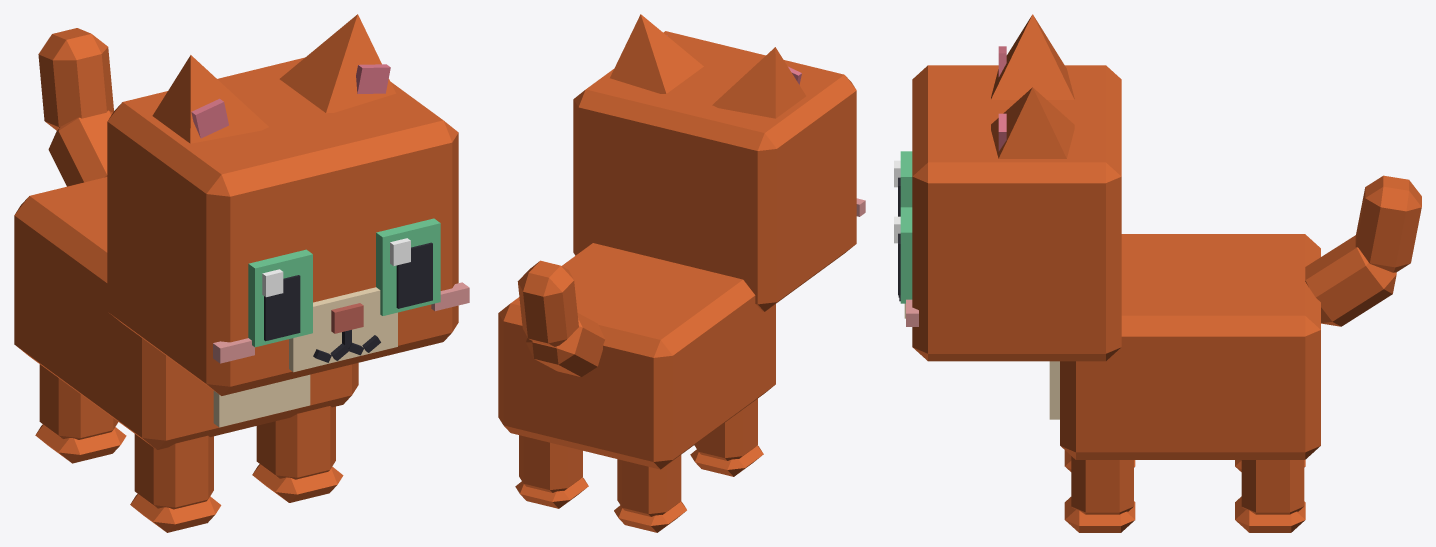
File: CatCafe_Cat_Ginger.glb
3 views of the same model, side by side, from view 1: azimuth 30°, elevation 25°; view 2: azimuth 150°, elevation 25°; view 3: azimuth 270°, elevation 25° (orthographic). The views are drawn at different scales.
Visible parts, largest first — view 1: CatCafe_Cat_Ginger_Head, CatCafe_Cat_Ginger_Body, CatCafe_Cat_Ginger_Tail, CatCafe_Cat_Ginger_LegF2, CatCafe_Cat_Ginger_LegF1, CatCafe_Cat_Ginger_EarL, CatCafe_Cat_Ginger_Eye2, CatCafe_Cat_Ginger_Eye1, CatCafe_Cat_Ginger_EarR, CatCafe_Cat_Ginger_LegB2; view 2: CatCafe_Cat_Ginger_Head, CatCafe_Cat_Ginger_Body, CatCafe_Cat_Ginger_Tail, CatCafe_Cat_Ginger_LegB2, CatCafe_Cat_Ginger_EarL, CatCafe_Cat_Ginger_LegB1, CatCafe_Cat_Ginger_EarR, CatCafe_Cat_Ginger_LegF2; view 3: CatCafe_Cat_Ginger_Head, CatCafe_Cat_Ginger_Body, CatCafe_Cat_Ginger_Tail, CatCafe_Cat_Ginger_LegB1, CatCafe_Cat_Ginger_LegF1, CatCafe_Cat_Ginger_EarR, CatCafe_Cat_Ginger_EarL, CatCafe_Cat_Ginger_Eye1, CatCafe_Cat_Ginger_Eye2.
Part boxes in pixels (bbox=[...]): CatCafe_Cat_Ginger_Head: bbox=[107, 57, 469, 395]; CatCafe_Cat_Ginger_Body: bbox=[14, 177, 358, 449]; CatCafe_Cat_Ginger_Tail: bbox=[38, 28, 113, 186]; CatCafe_Cat_Ginger_LegF2: bbox=[130, 434, 221, 532]; CatCafe_Cat_Ginger_LegF1: bbox=[252, 406, 343, 502]; CatCafe_Cat_Ginger_EarL: bbox=[279, 14, 395, 113]; CatCafe_Cat_Ginger_Eye2: bbox=[248, 249, 312, 347]; CatCafe_Cat_Ginger_Eye1: bbox=[376, 218, 440, 315]; CatCafe_Cat_Ginger_EarR: bbox=[152, 55, 268, 143]; CatCafe_Cat_Ginger_LegB2: bbox=[35, 364, 126, 463]; CatCafe_Cat_Ginger_Head: bbox=[573, 31, 865, 311]; CatCafe_Cat_Ginger_Body: bbox=[498, 243, 775, 469]; CatCafe_Cat_Ginger_Tail: bbox=[517, 260, 605, 376]; CatCafe_Cat_Ginger_LegB2: bbox=[614, 455, 686, 532]; CatCafe_Cat_Ginger_EarL: bbox=[610, 14, 703, 93]; CatCafe_Cat_Ginger_LegB1: bbox=[515, 435, 588, 508]; CatCafe_Cat_Ginger_EarR: bbox=[712, 47, 805, 118]; CatCafe_Cat_Ginger_LegF2: bbox=[690, 398, 763, 476]; CatCafe_Cat_Ginger_Head: bbox=[898, 65, 1121, 361]; CatCafe_Cat_Ginger_Body: bbox=[1049, 234, 1320, 459]; CatCafe_Cat_Ginger_Tail: bbox=[1305, 175, 1421, 326]; CatCafe_Cat_Ginger_LegB1: bbox=[1235, 460, 1305, 532]; CatCafe_Cat_Ginger_LegF1: bbox=[1064, 456, 1135, 532]; CatCafe_Cat_Ginger_EarR: bbox=[991, 14, 1074, 99]; CatCafe_Cat_Ginger_EarL: bbox=[991, 87, 1074, 158]; CatCafe_Cat_Ginger_Eye1: bbox=[894, 207, 912, 303]; CatCafe_Cat_Ginger_Eye2: bbox=[894, 151, 912, 216].
Bounding box in the file's own units: 1 × 1.89 × 2.02.
Materials: 1 (1 with a texture image).
